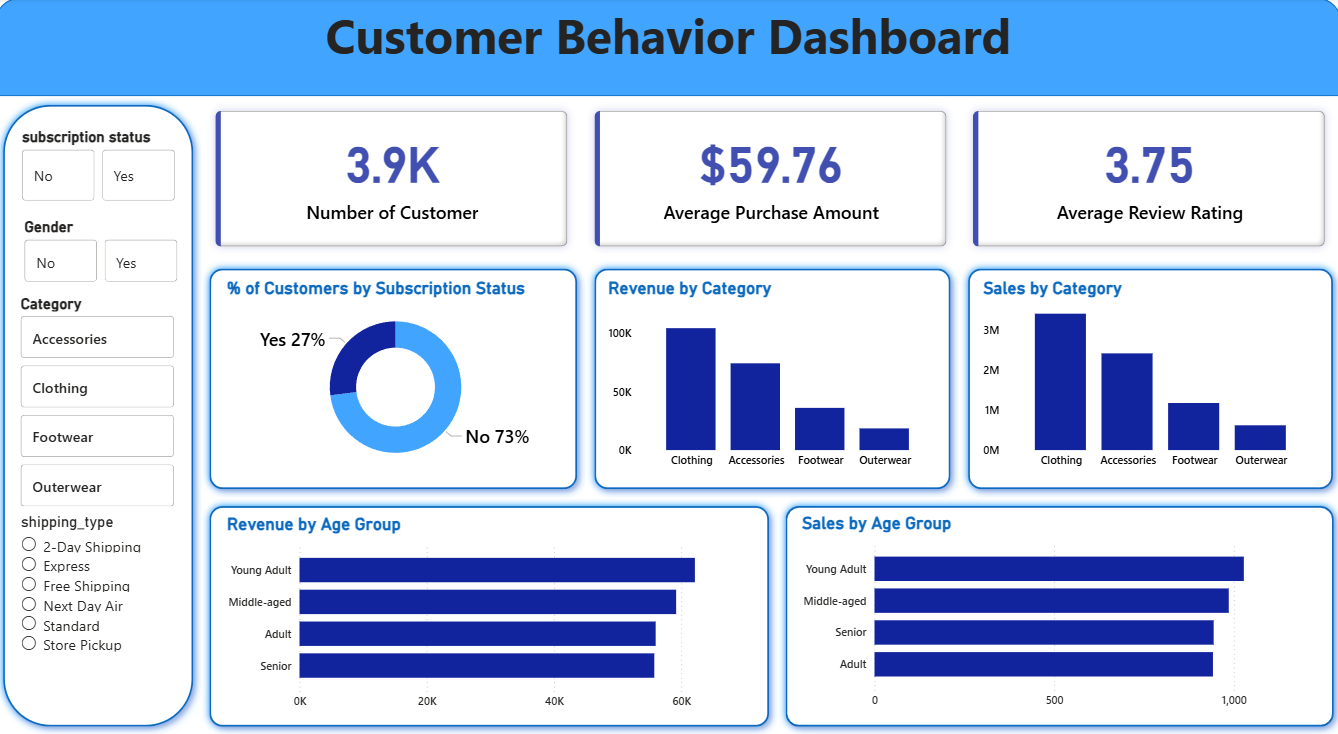

Layout of this report page (visuals, bound fields, positions):
{"tool":"powerbi","page":{"name":"Page 1","canvas":[1500,820],"ordinal":0},"visuals":[{"type":"shape","box":[230,556.4,641.6,263.7],"z":0},{"type":"cardVisual","fields":{"Data":["public customer.Number of Customer","public customer.Average Purchase Amount","public customer.Average Review Rating"]},"box":[230,109.3,1270.4,183.3],"z":1000},{"type":"shape","box":[0,0,1500.3,109.3],"z":2000},{"type":"textbox","box":[0,0,1500.3,88.4],"z":3000},{"type":"shape","box":[230,292.7,427.7,263.7],"z":4000},{"type":"donutChart","title":"% of Customers by Subscription Status","fields":{"Category":["public customer.subscription_status"],"Y":["CountNonNull(public customer.customer_id)"]},"box":[254.1,312,385.9,221.9],"z":5000},{"type":"shape","box":[1075.8,292.7,424.5,263.7],"z":6000},{"type":"shape","box":[659.3,292.7,414.9,263.7],"z":7000},{"type":"columnChart","title":"Revenue by Category","fields":{"Y":["Sum(public customer.purchase_amount)"],"Category":["public customer.category"]},"box":[678.6,312,376.3,221.9],"z":8000},{"type":"columnChart","title":"Sales by Category","fields":{"Category":["public customer.category"],"Y":["Sum(public customer.customer_id)"]},"box":[1096.7,312,379.5,221.9],"z":9000},{"type":"shape","box":[0,109.3,230,710.8],"z":10000},{"type":"advancedSlicerVisual","title":"subscription status","fields":{"Values":["public customer.subscription_status"]},"box":[25.7,144.7,181.7,86.8],"z":11000},{"type":"advancedSlicerVisual","title":"Gender","fields":{"Values":["public customer.subscription_status"]},"box":[27.3,244.4,181.7,77.2],"z":12000},{"type":"advancedSlicerVisual","title":"Category","fields":{"Values":["public customer.category"]},"box":[24.1,329.7,181.7,242.8],"z":13000},{"type":"listSlicer","fields":{"Values":["public customer.shipping_type"]},"box":[23.7,573.8,185.2,228.4],"z":14000},{"type":"clusteredBarChart","title":"Revenue by Age Group","fields":{"Y":["Sum(public customer.purchase_amount)"],"Category":["public customer.age_group"]},"box":[254.1,575.7,598.2,226.7],"z":15000},{"type":"shape","box":[871.6,556.4,628.8,263.7],"z":16000},{"type":"clusteredBarChart","title":"Sales by Age Group","fields":{"Category":["public customer.age_group"],"Y":["CountNonNull(public customer.customer_id)"]},"box":[894.1,574.1,585.3,226.7],"z":17000}]}

Visuals, with their boxes in screenshot pixels (x1, y1, x2, y2), scaled from the page's 1500x820 canvas onto the 1338x734 screenshot:
shape: (205,498,777,733)
cardVisual - public customer.Number of Customer x public customer.Average Purchase Amount: (205,98,1337,262)
shape: (0,0,1337,98)
textbox: (0,0,1337,79)
shape: (205,262,587,498)
"% of Customers by Subscription Status" donutChart: (227,279,571,478)
shape: (960,262,1337,498)
shape: (588,262,958,498)
"Revenue by Category" columnChart: (605,279,941,478)
"Sales by Category" columnChart: (978,279,1317,478)
shape: (0,98,205,733)
"subscription status" advancedSlicerVisual: (23,130,185,207)
"Gender" advancedSlicerVisual: (24,219,186,288)
"Category" advancedSlicerVisual: (21,295,184,512)
listSlicer - public customer.shipping_type: (21,514,186,718)
"Revenue by Age Group" clusteredBarChart: (227,515,760,718)
shape: (777,498,1337,733)
"Sales by Age Group" clusteredBarChart: (798,514,1320,717)
